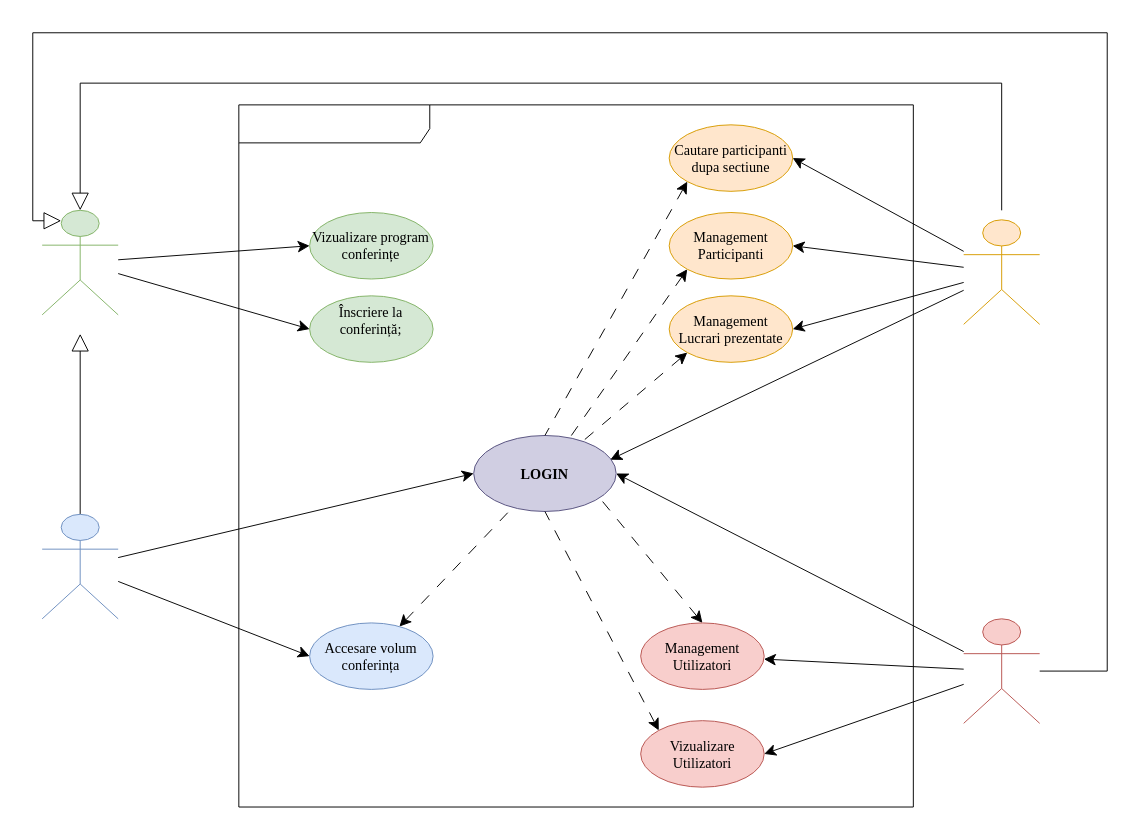
The diagram is 1141 pixels wide and 824 high, and some of its shapes have lost their labels. Each missing label, with the box of its shape:
Actor: (41, 209, 118, 315)
Administrator: (963, 618, 1040, 723)
organizarea de conferințe științifice: (238, 104, 913, 807)
Organizator: (963, 219, 1040, 324)
Utilizator: (41, 513, 118, 619)
